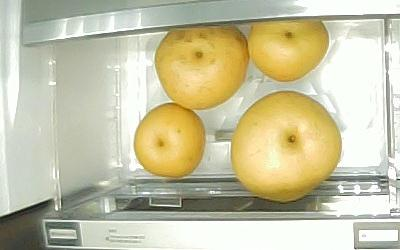pear: (230, 90, 342, 201), (153, 23, 249, 110), (133, 103, 205, 178), (247, 19, 329, 82)
